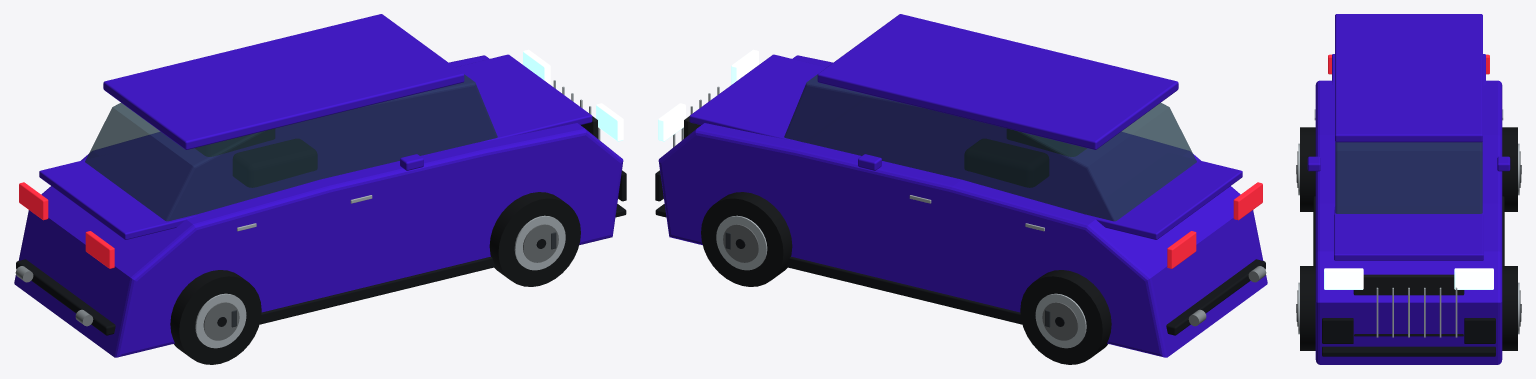
File: chevy_express_passenger.glb
3 renders of one model, left to right at view 1: azimuth 30°, elevation 25°; view 2: azimuth 150°, elevation 25°; view 3: azimuth 270°, elevation 25°, orthographic. The views are drawn at different scales.
Visible parts, largest first — view 1: sculpted_body, glasshouse, roof, hood_center, rear_deck, rear_right_wheel_tire, front_right_wheel_tire, side_skirt_1, seat_1, rear_diffuser, rear_right_wheel_rim, front_right_wheel_rim (+7 smaller); view 2: sculpted_body, glasshouse, roof, hood_center, rear_deck, rear_left_wheel_tire, front_left_wheel_tire, side_skirt_-1, seat_-1, rear_diffuser, rear_left_wheel_rim, front_left_wheel_rim (+7 smaller); view 3: sculpted_body, roof, glasshouse, hood_center, front_grille, front_splitter, front_left_wheel_tire, front_right_wheel_tire, rear_left_wheel_tire, rear_right_wheel_tire, headlight_right, headlight_left (+7 smaller).
Boxes of the visible parts, x1,y1,x2,y2 form: sculpted_body: [14, 55, 623, 357]; glasshouse: [85, 74, 497, 221]; roof: [103, 14, 464, 149]; hood_center: [415, 54, 592, 142]; rear_deck: [39, 153, 198, 239]; rear_right_wheel_tire: [170, 270, 261, 364]; front_right_wheel_tire: [489, 192, 580, 286]; side_skirt_1: [259, 256, 495, 324]; seat_1: [233, 139, 316, 187]; rear_diffuser: [16, 259, 115, 335]; rear_right_wheel_rim: [195, 293, 246, 348]; front_right_wheel_rim: [514, 215, 565, 270]; sculpted_body: [658, 55, 1267, 357]; glasshouse: [784, 74, 1196, 221]; roof: [817, 14, 1178, 149]; hood_center: [689, 54, 866, 142]; rear_deck: [1083, 153, 1242, 239]; rear_left_wheel_tire: [1020, 270, 1111, 364]; front_left_wheel_tire: [701, 192, 792, 286]; side_skirt_-1: [786, 256, 1022, 324]; seat_-1: [965, 139, 1048, 187]; rear_diffuser: [1166, 259, 1265, 335]; rear_left_wheel_rim: [1035, 293, 1086, 348]; front_left_wheel_rim: [716, 215, 767, 270]; sculpted_body: [1315, 80, 1502, 364]; roof: [1335, 14, 1482, 142]; glasshouse: [1335, 142, 1482, 213]; hood_center: [1334, 206, 1483, 260]; front_grille: [1353, 274, 1464, 336]; front_splitter: [1322, 346, 1495, 356]; front_left_wheel_tire: [1502, 266, 1517, 350]; front_right_wheel_tire: [1300, 266, 1315, 350]; rear_left_wheel_tire: [1502, 127, 1517, 211]; rear_right_wheel_tire: [1300, 127, 1315, 211]; headlight_right: [1324, 268, 1363, 289]; headlight_left: [1454, 268, 1493, 289].
Bounding box in the file's own units: 5.56 × 2.1 × 2.28.
